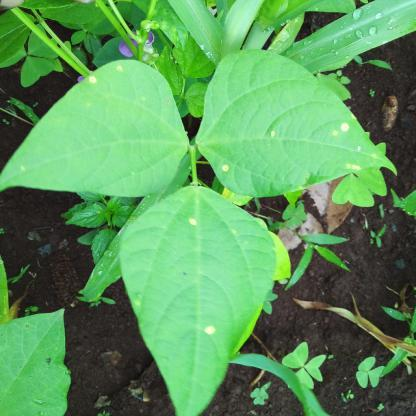Beans_Rust: (118, 186, 275, 410), (198, 51, 395, 197), (0, 61, 190, 196)
